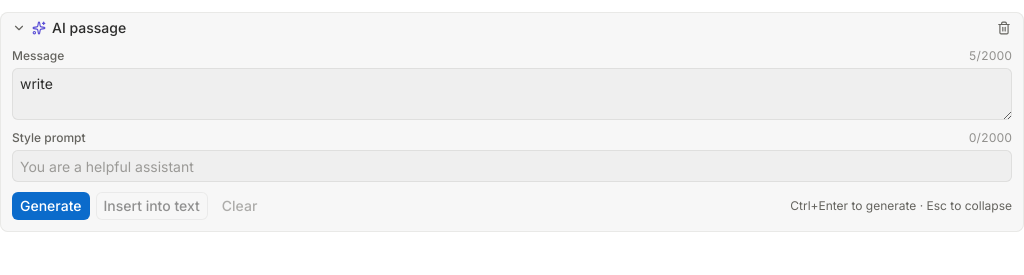
AiBeatInline › surfaces a failure instead of silently doing nothing
Click the button "Generate": (51, 206) [12,192,90,220]
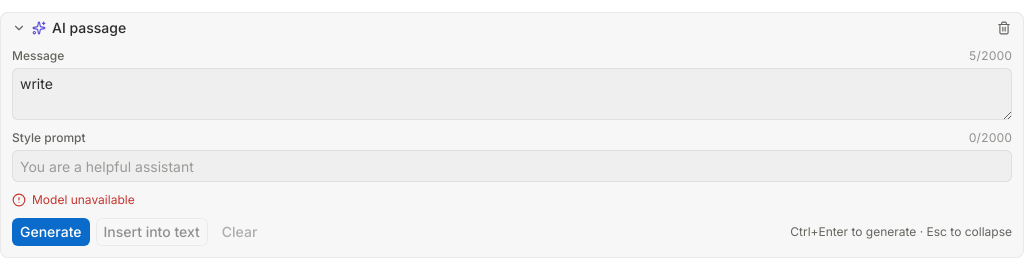
expect the message reads "Model unavailable": met, box [32,192,135,207]
